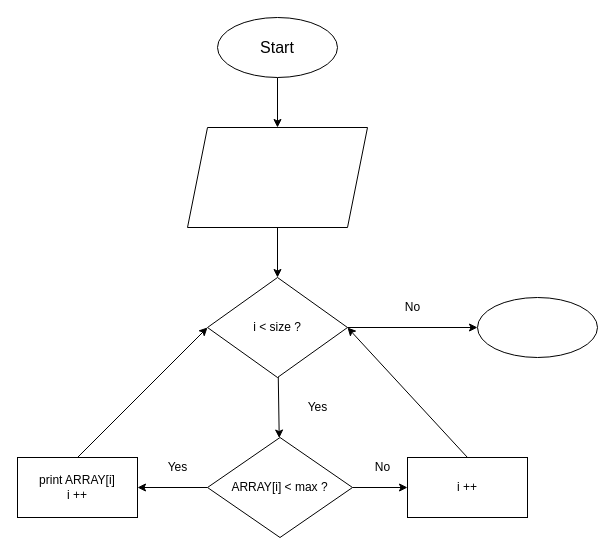
The diagram is 615 pixels wide and 555 high, and some of its shapes have lost their labels. The centre of each missing label's shape, as x and y in pixels:
"ARRAY max=3 size = ARRAY.Length i = 0 count = 0" belongs at pixel 277 177.
"End" belongs at pixel 537 327.
